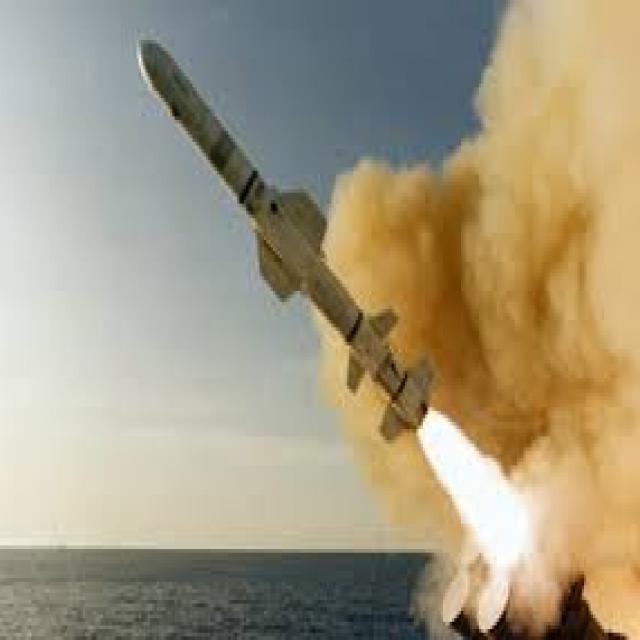missile: (132, 34, 440, 422)
